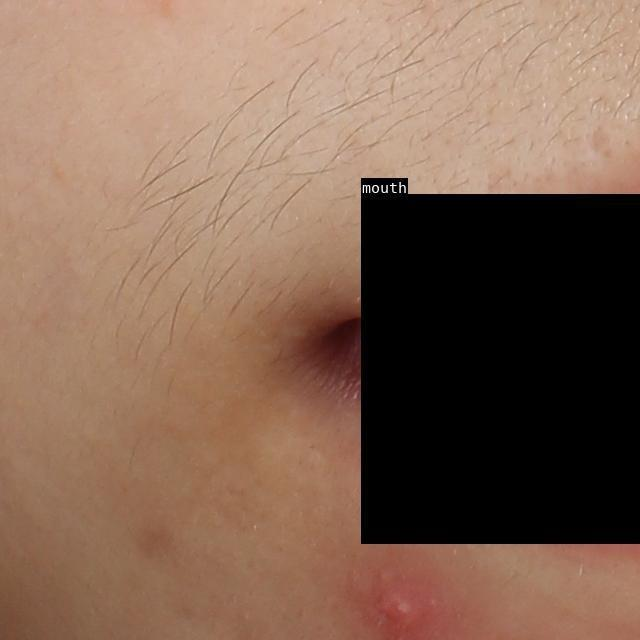atrophic_scar: (585, 128, 615, 159)
papule: (369, 566, 438, 634)
